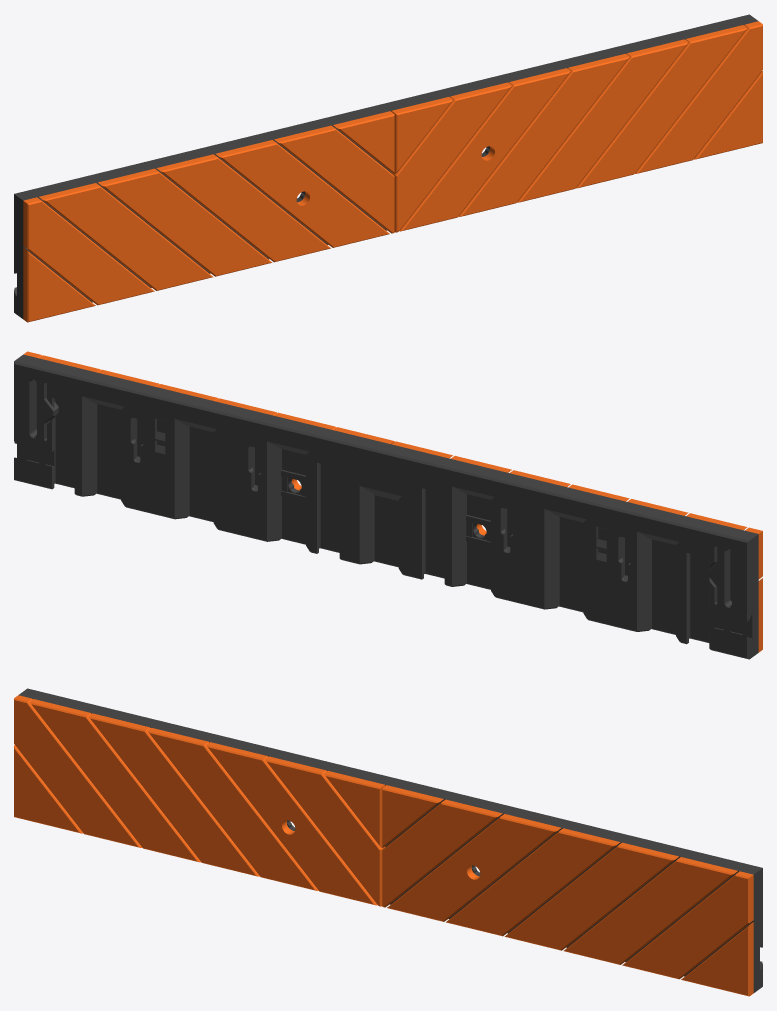
File: Faceplate_Chevron_2W-05H.lib.glb
The picture shows the model from 3 angles, top to bottom: view 1: azimuth 30°, elevation 25°; view 2: azimuth 150°, elevation 25°; view 3: azimuth 330°, elevation 25°; orthographic projection.
Visible parts, largest first — view 1: Faceplate_Chevron_2W-05H; view 2: Faceplate_Chevron_2W-05H; view 3: Faceplate_Chevron_2W-05H.
Boxes of the visible parts, x1,y1,x2,y2 form: Faceplate_Chevron_2W-05H: (14, 14, 762, 322); Faceplate_Chevron_2W-05H: (14, 351, 762, 659); Faceplate_Chevron_2W-05H: (14, 688, 762, 996).
Size of the model in its own units: 175 by 27 by 6.2.
